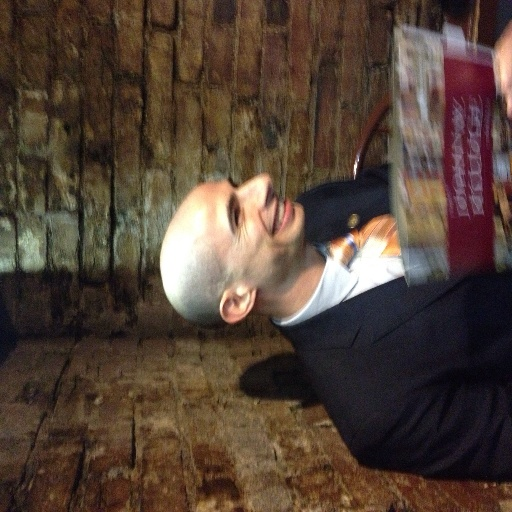hand: (493, 23, 511, 120)
